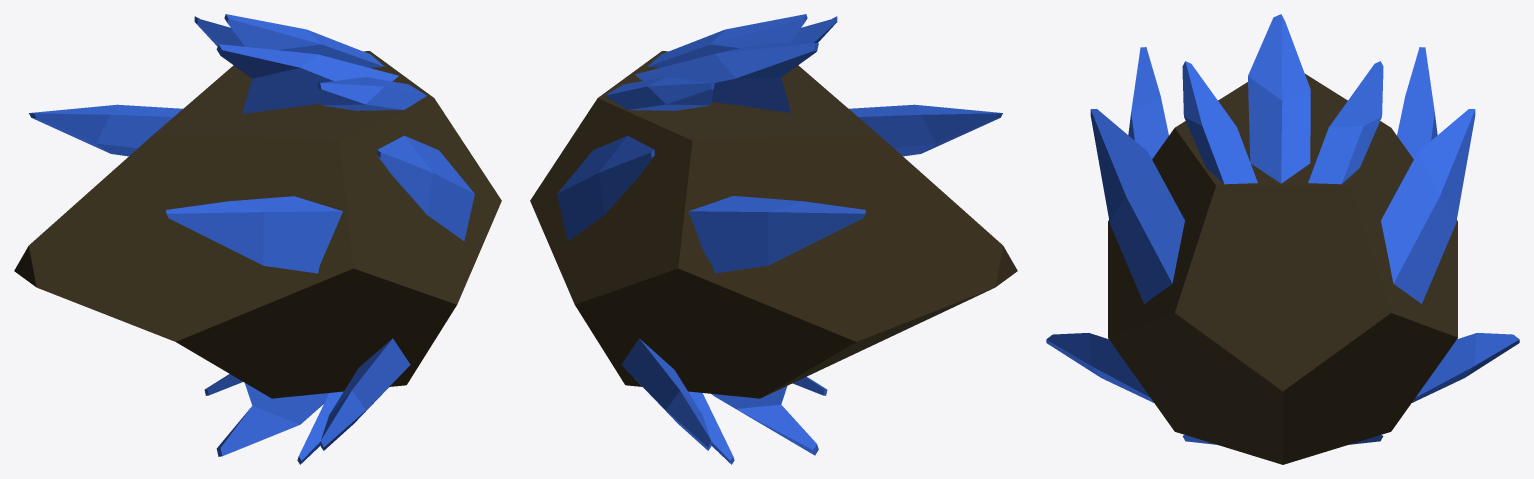
The model's file is meteor2.fbx.
The picture shows the model from 3 angles, left to right: view 1: azimuth 30°, elevation 25°; view 2: azimuth 150°, elevation 25°; view 3: azimuth 270°, elevation 25°; orthographic projection. The views are drawn at different scales.
Parts seen in each view (by area): view 1: Meteor.001; view 2: Meteor.001; view 3: Meteor.001.
Part boxes in pixels (x1=…): Meteor.001: x1=14, y1=14, x2=501, y2=464; Meteor.001: x1=530, y1=14, x2=1017, y2=464; Meteor.001: x1=1046, y1=14, x2=1519, y2=464.
Size of the model in its own units: 217 by 189 by 190.
